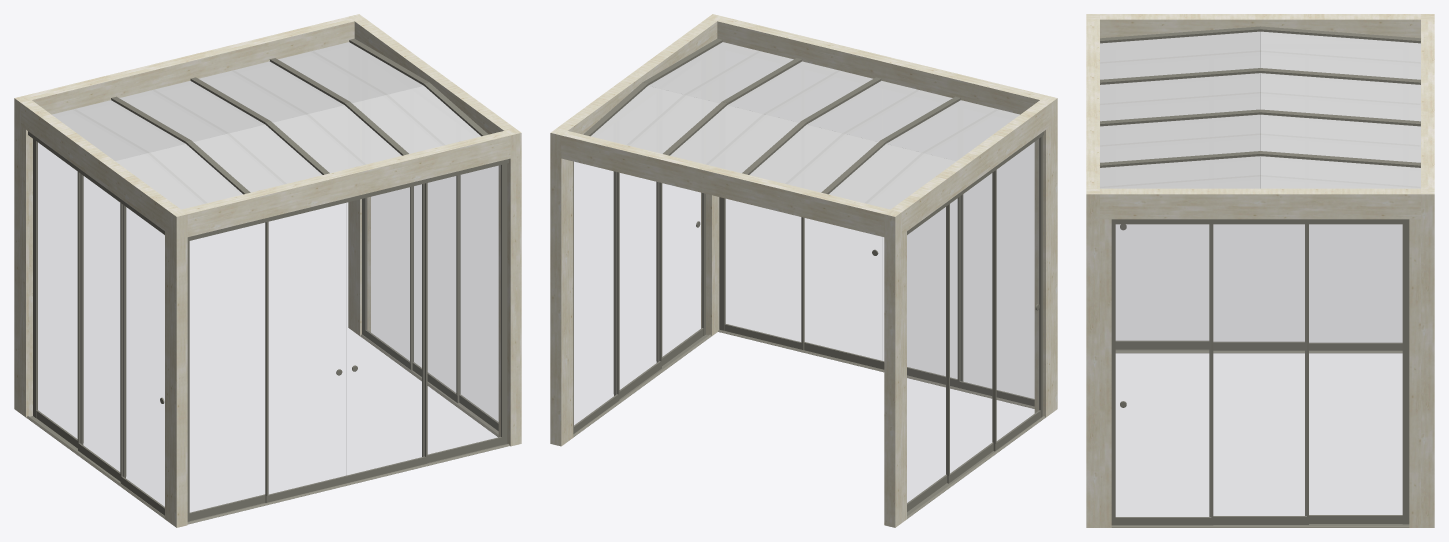
The model's file is agp_h27-w30-d24_whitepine.fbx.
3 views of the same model, side by side, from view 1: azimuth 30°, elevation 25°; view 2: azimuth 150°, elevation 25°; view 3: azimuth 270°, elevation 25° (orthographic). The views are drawn at different scales.
Parts seen in each view (by area): view 1: agp_h27-w30-d24_darkpine.010; view 2: agp_h27-w30-d24_darkpine.010; view 3: agp_h27-w30-d24_darkpine.010.
Part boxes in pixels (box(x1,y1,x2,y2)): agp_h27-w30-d24_darkpine.010: box(14, 14, 521, 527); agp_h27-w30-d24_darkpine.010: box(550, 14, 1057, 527); agp_h27-w30-d24_darkpine.010: box(1086, 14, 1434, 527).
Bounding box in the file's own units: 313 × 270 × 255.
Materials: 4 (2 with a texture image).
